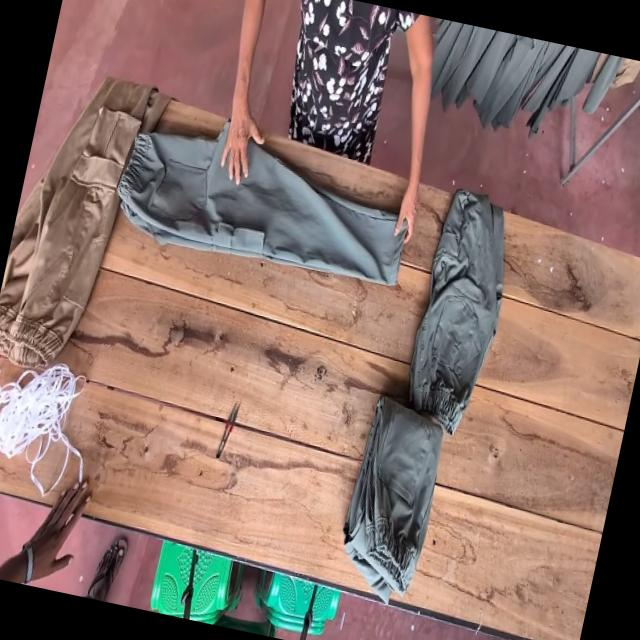new-garment: (116, 123, 401, 284)
